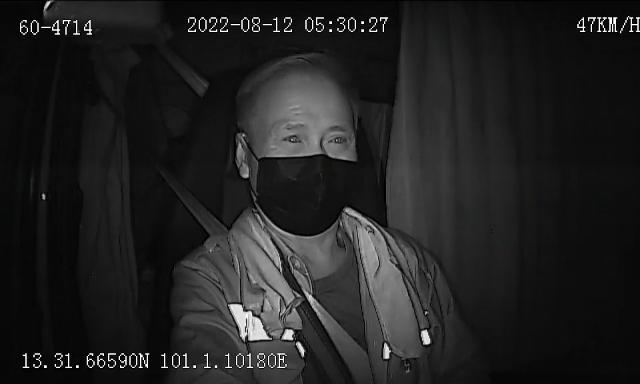SafeDriving: (320, 125, 354, 152), (274, 127, 309, 150)
Seatbelt: (162, 170, 376, 384)
